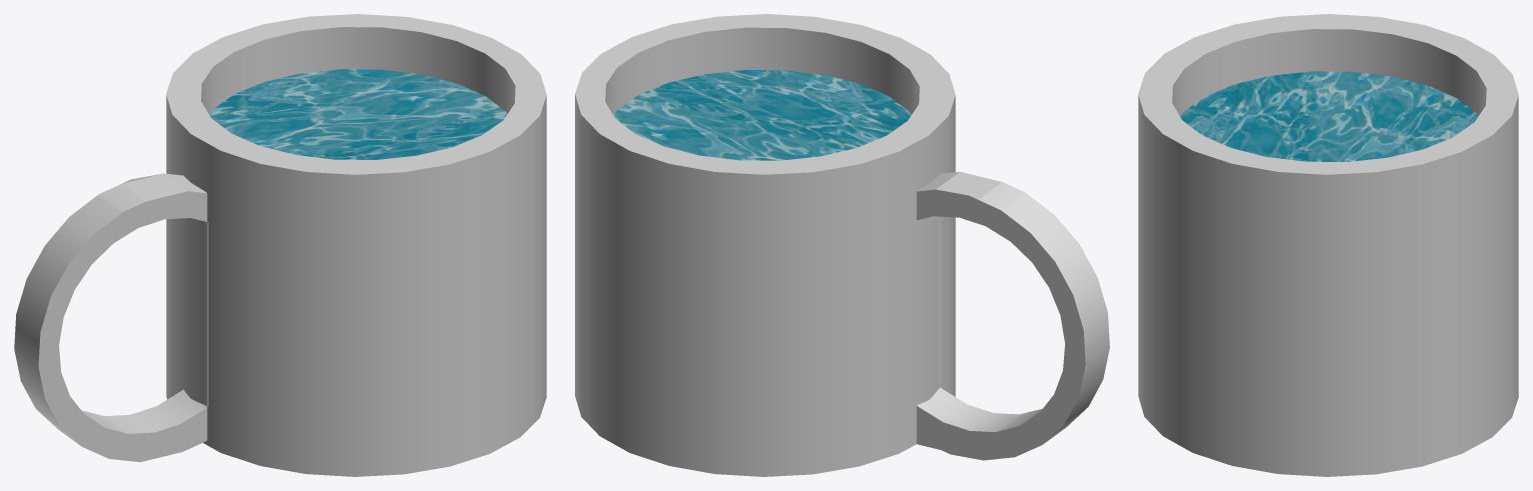
The model's file is water_cup.glb.
3 views of the same model, side by side, from view 1: azimuth 30°, elevation 25°; view 2: azimuth 150°, elevation 25°; view 3: azimuth 270°, elevation 25° (orthographic).
Parts seen in each view (by area): view 1: Mesh1_FrontColor_0, Mesh1_Water_Pool_Light_0; view 2: Mesh1_FrontColor_0, Mesh1_Water_Pool_Light_0; view 3: Mesh1_FrontColor_0, Mesh1_Water_Pool_Light_0.
Boxes of the visible parts, x1,y1,x2,y2 form: Mesh1_FrontColor_0: (14, 14, 546, 476); Mesh1_Water_Pool_Light_0: (209, 69, 507, 159); Mesh1_FrontColor_0: (575, 14, 1109, 476); Mesh1_Water_Pool_Light_0: (613, 70, 911, 160); Mesh1_FrontColor_0: (1138, 14, 1518, 476); Mesh1_Water_Pool_Light_0: (1180, 71, 1478, 161).
Size of the model in its own units: 2.15 by 1.26 by 1.43.
Materials: 2 (1 with a texture image).
